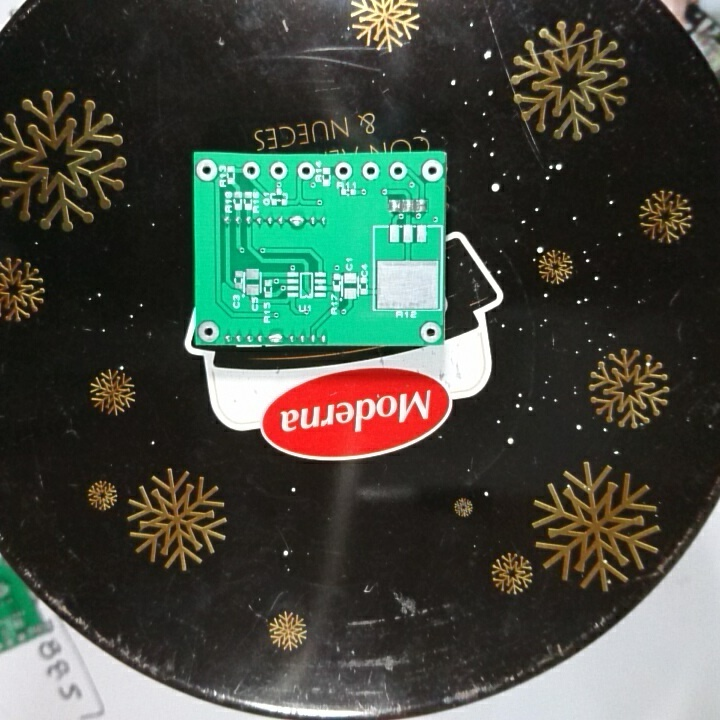F: (417, 317, 442, 344), (197, 318, 222, 344), (419, 158, 443, 183), (194, 158, 217, 183), (387, 160, 409, 182), (359, 160, 382, 181), (332, 160, 355, 181), (268, 160, 290, 181), (240, 160, 262, 181), (296, 160, 315, 182)
P: (288, 212, 307, 231), (267, 330, 285, 345)
